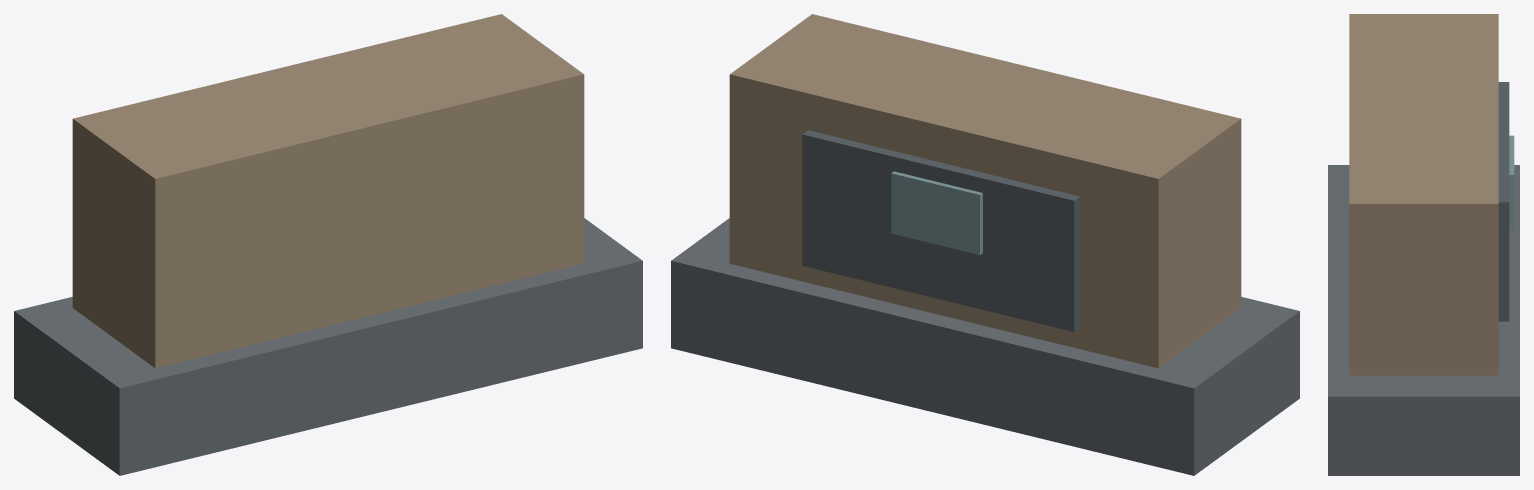
File: iz3_health_pharmacy_02.glb
3 renders of one model, left to right at view 1: azimuth 30°, elevation 25°; view 2: azimuth 150°, elevation 25°; view 3: azimuth 270°, elevation 25°, orthographic. The views are drawn at different scales.
Parts seen in each view (by area): view 1: cabinet, base; view 2: cabinet, base, panel, display; view 3: cabinet, base, panel, display.
Part boxes in pixels (<box>): cabinet: <box>72,14,584,368</box>; base: <box>14,218,642,475</box>; cabinet: <box>729,14,1241,368</box>; base: <box>671,218,1299,475</box>; panel: <box>802,130,1080,331</box>; display: <box>891,171,982,254</box>; cabinet: <box>1349,14,1498,375</box>; base: <box>1328,165,1519,475</box>; panel: <box>1498,82,1509,321</box>; display: <box>1509,135,1514,229</box>.
Bounding box in the file's own units: 2 × 1.01 × 0.7.
